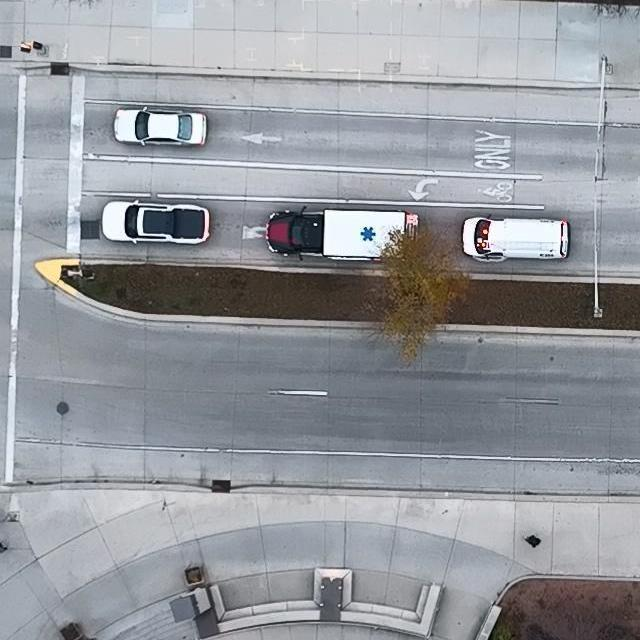car: (266, 205, 419, 262), (461, 214, 569, 263), (102, 199, 210, 244), (113, 106, 208, 148)
